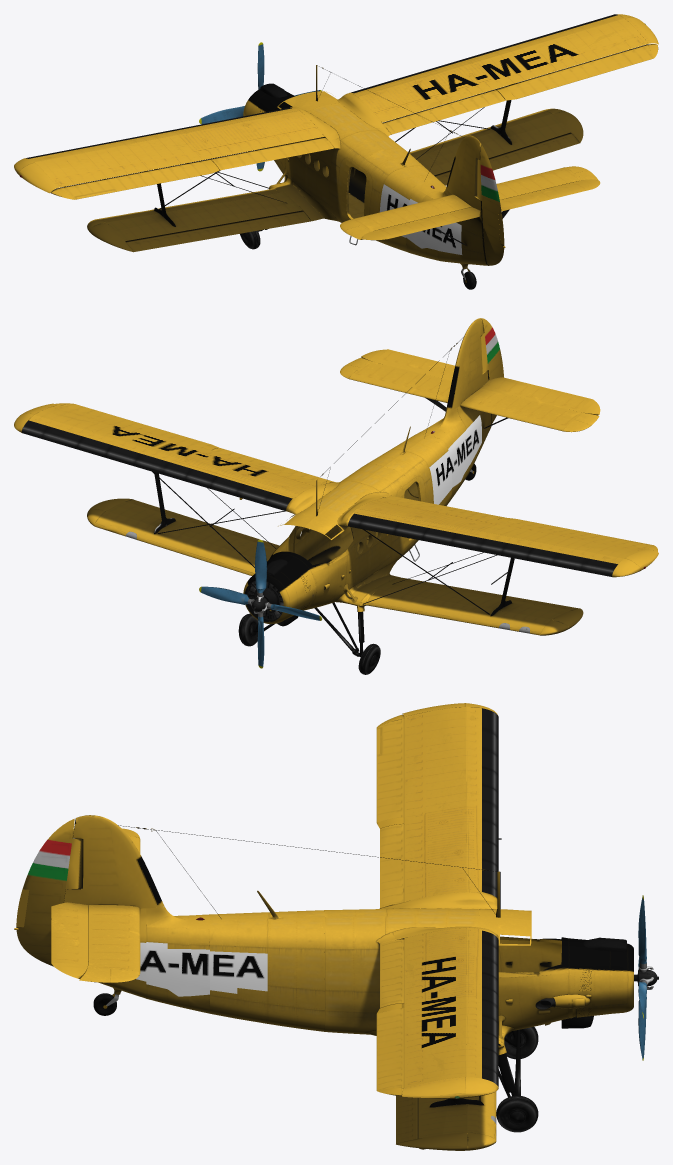
3 views of the same model, one above another, from view 1: azimuth 30°, elevation 25°; view 2: azimuth 150°, elevation 25°; view 3: azimuth 270°, elevation 25° (orthographic). The views are drawn at different scales.
Parts seen in each view (by area): view 1: external_001, external_010, external_002, external_008, external_005, external_003, external_006, external_007, external_004, external_000, external_028, external_029 (+1 smaller); view 2: external_001, external_028, external_029, external_002, external_010, external_003, external_000, external_008, external_033, external_004, external_005, external_006 (+3 smaller); view 3: external_001, external_003, external_029, external_008, external_002, external_010, external_028, external_007, external_006, external_025, external_004, external_021.
Part boxes in pixels (x1,y1,x2,y2): external_001: (14,14,658,268); external_010: (495,44,658,100); external_002: (361,179,600,240); external_008: (50,159,219,199); external_005: (126,211,310,251); external_003: (477,145,505,265); external_006: (382,89,505,134); external_007: (209,137,333,170); external_004: (435,133,579,185); external_000: (20,24,645,245); external_028: (351,14,617,93); external_029: (26,107,291,158); external_001: (14,318,658,635); external_028: (21,420,292,511); external_029: (348,513,617,576); external_002: (361,349,600,415); external_010: (56,403,219,450); external_003: (480,318,501,423); external_000: (154,431,645,616); external_008: (498,517,657,551); external_033: (246,581,283,621); external_004: (126,499,279,548); external_005: (394,577,577,610); external_006: (212,448,333,483); external_001: (63,703,633,1150); external_003: (14,818,83,966); external_029: (482,708,498,897); external_008: (376,715,404,828); external_002: (51,829,88,978); external_010: (376,1003,404,1096); external_028: (482,930,498,1086); external_007: (380,824,404,908); external_006: (380,939,404,1007); external_025: (496,1095,538,1132); external_004: (396,1095,418,1143); external_021: (504,1026,538,1059).
Size of the model in its own units: 18.38 by 6.11 by 12.76.
Materials: 1 (1 with a texture image).
